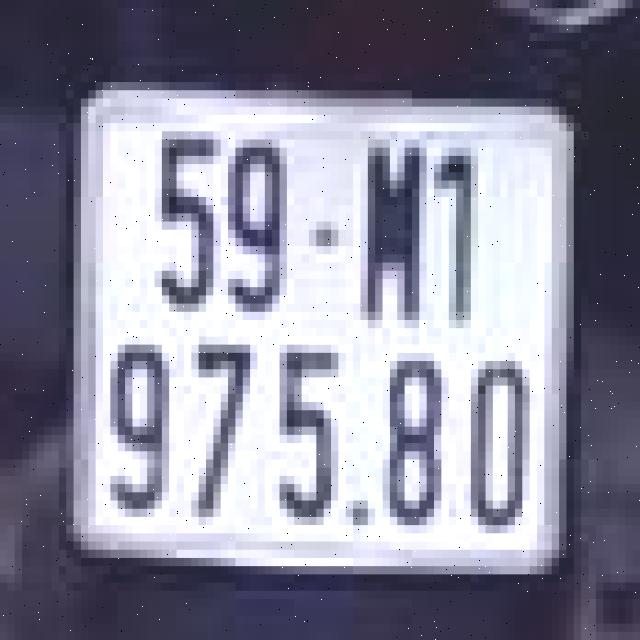0: (463, 349, 537, 529)
1: (434, 127, 486, 324)
5: (147, 127, 221, 324), (269, 337, 342, 525), (276, 336, 342, 534)
7: (192, 332, 258, 538)
8: (375, 349, 449, 537)
9: (99, 336, 173, 517), (224, 123, 290, 312)
M: (361, 127, 426, 332)
